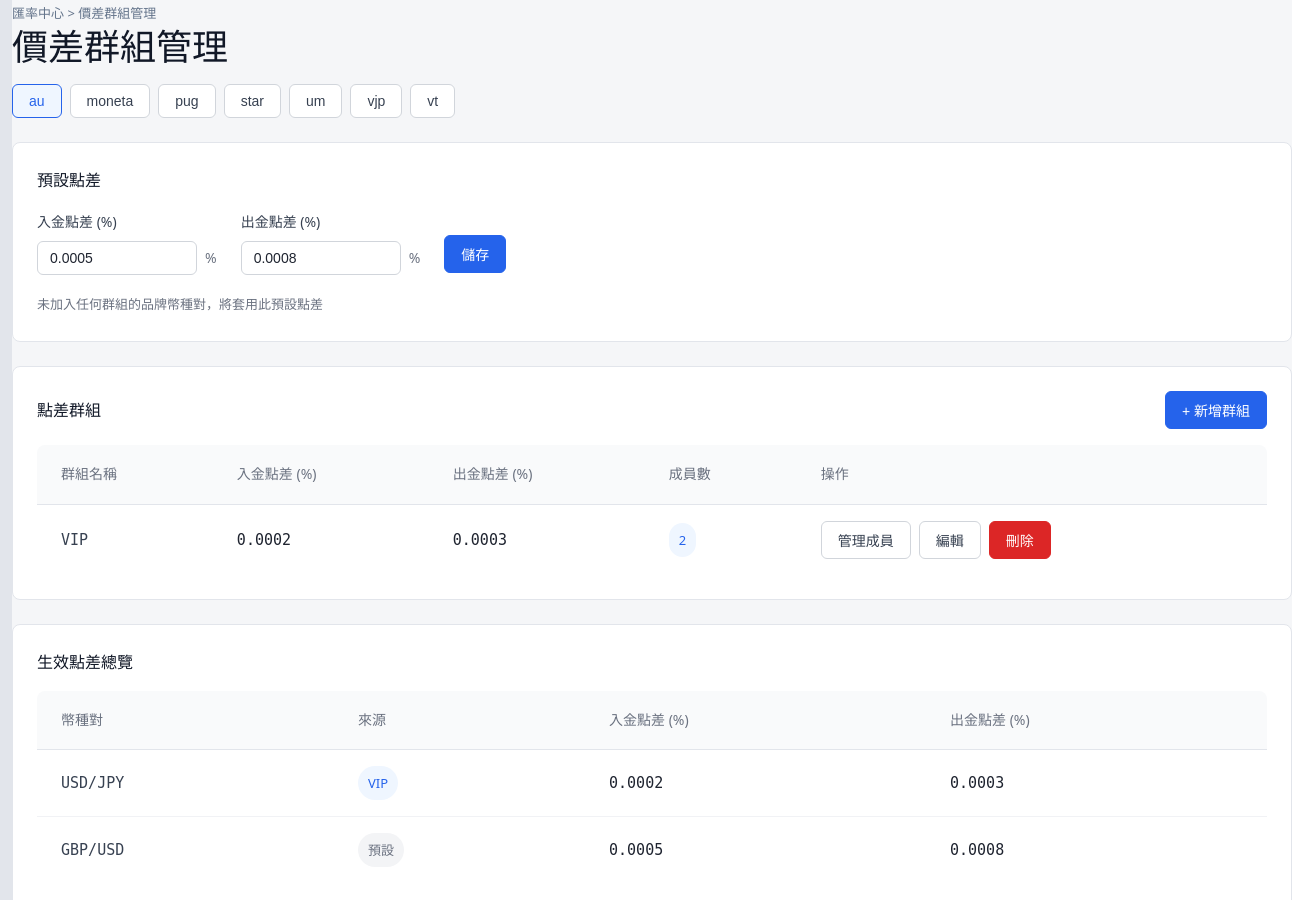
it: SpreadGroupManagementPage › shows the already-pending error toast on a 409 default-spread conflict
expect the heading "價差群組管理" is shown: met, box left=12, top=22, right=228, bottom=71
Replace the text in the number field labelled "入金點差 (%)" with "0.001" at (117, 258), box left=37, top=241, right=197, bottom=275
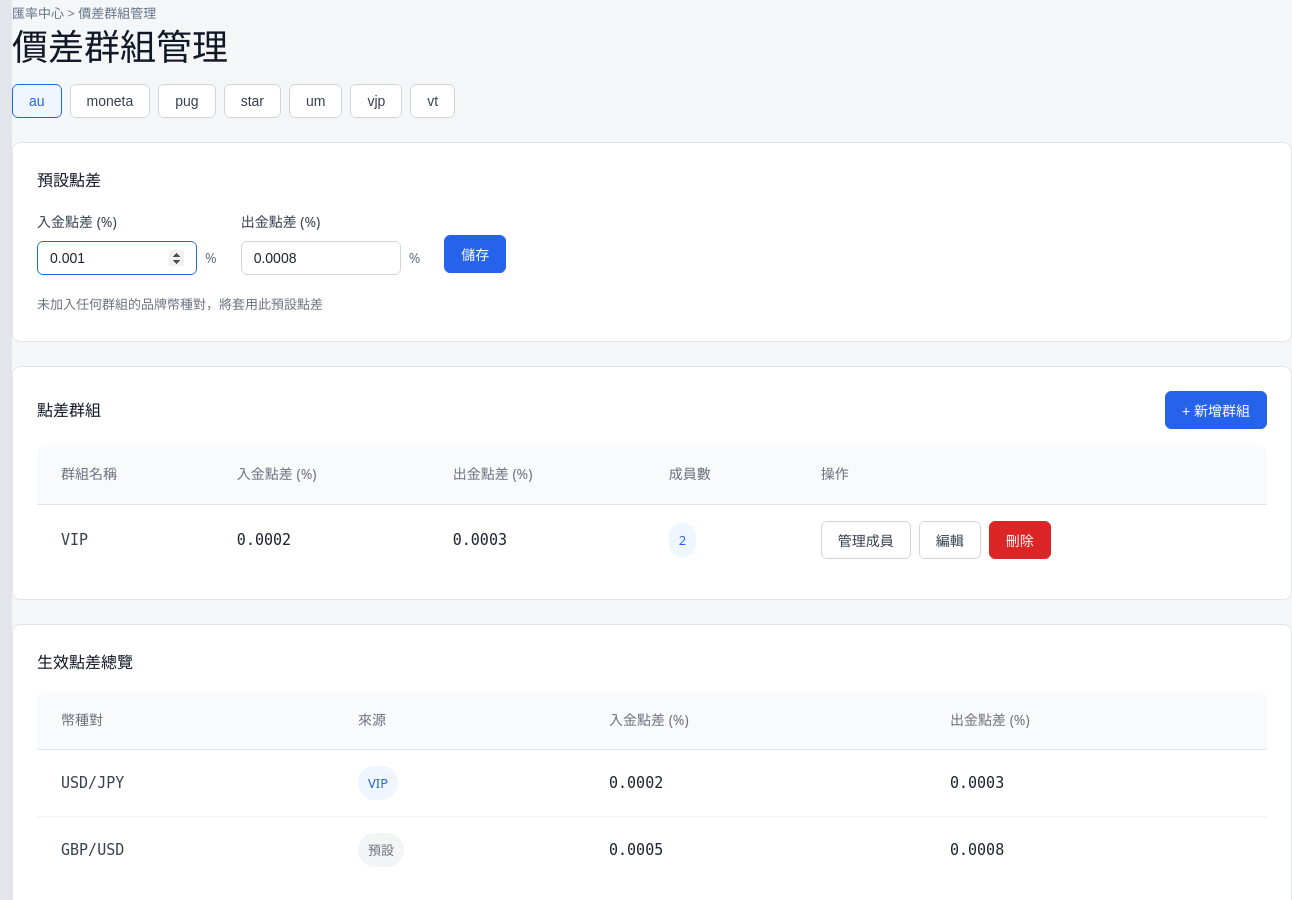
Click the button "儲存" at (475, 254), box left=444, top=235, right=506, bottom=273
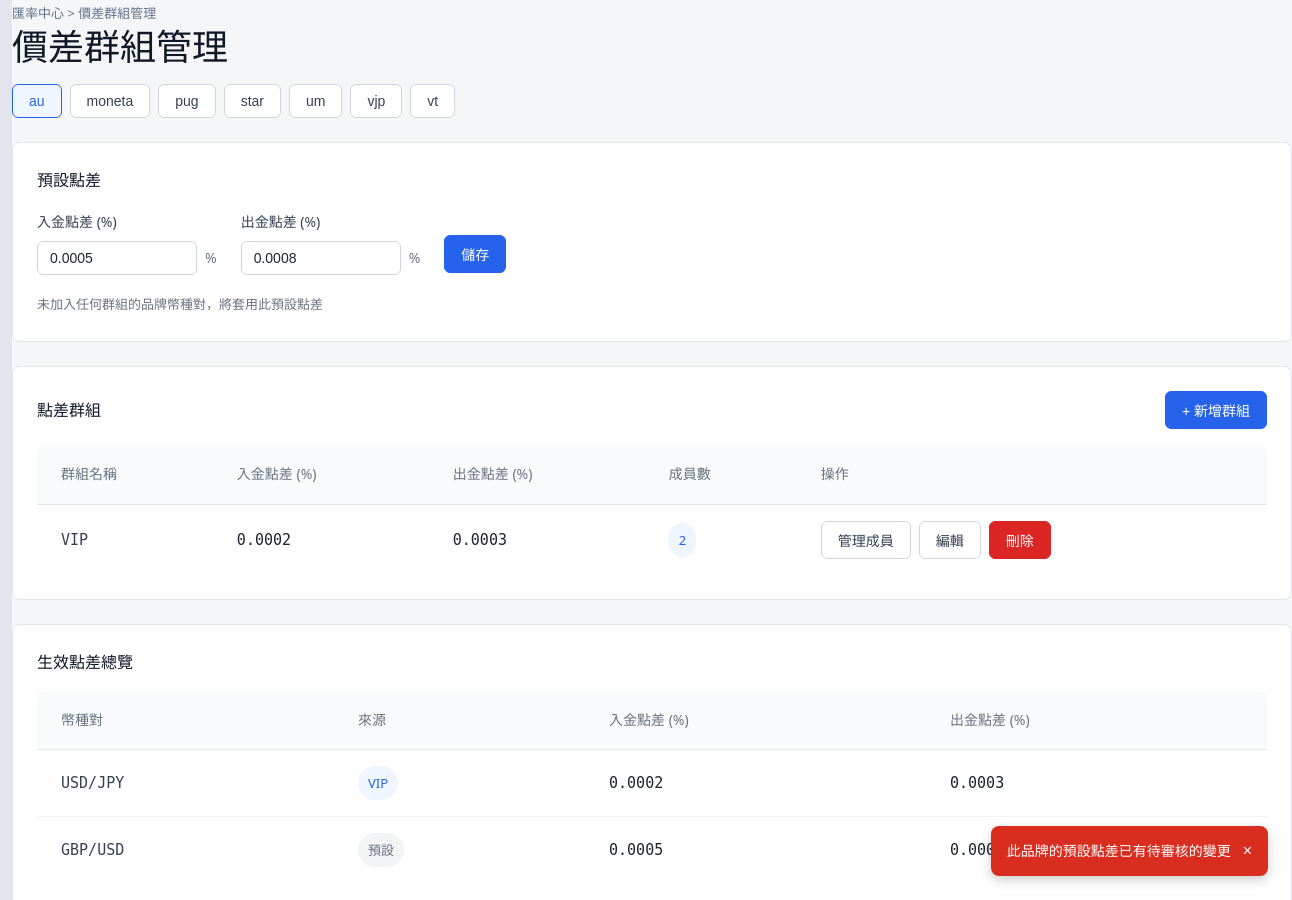
expect the text "此品牌的預設點差已有待審核的變更" is shown: met, box left=1007, top=838, right=1231, bottom=864
expect the number field labelled "入金點差 (%)" holds "0.0005": met, box left=37, top=241, right=197, bottom=275
